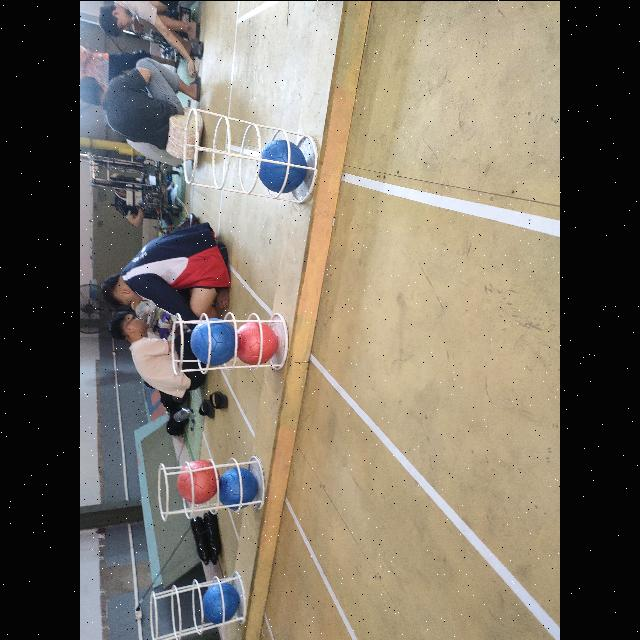B: (256, 137, 308, 193), (192, 314, 238, 364), (218, 468, 258, 508), (202, 581, 238, 625)
R: (236, 322, 278, 366), (176, 459, 218, 501)
